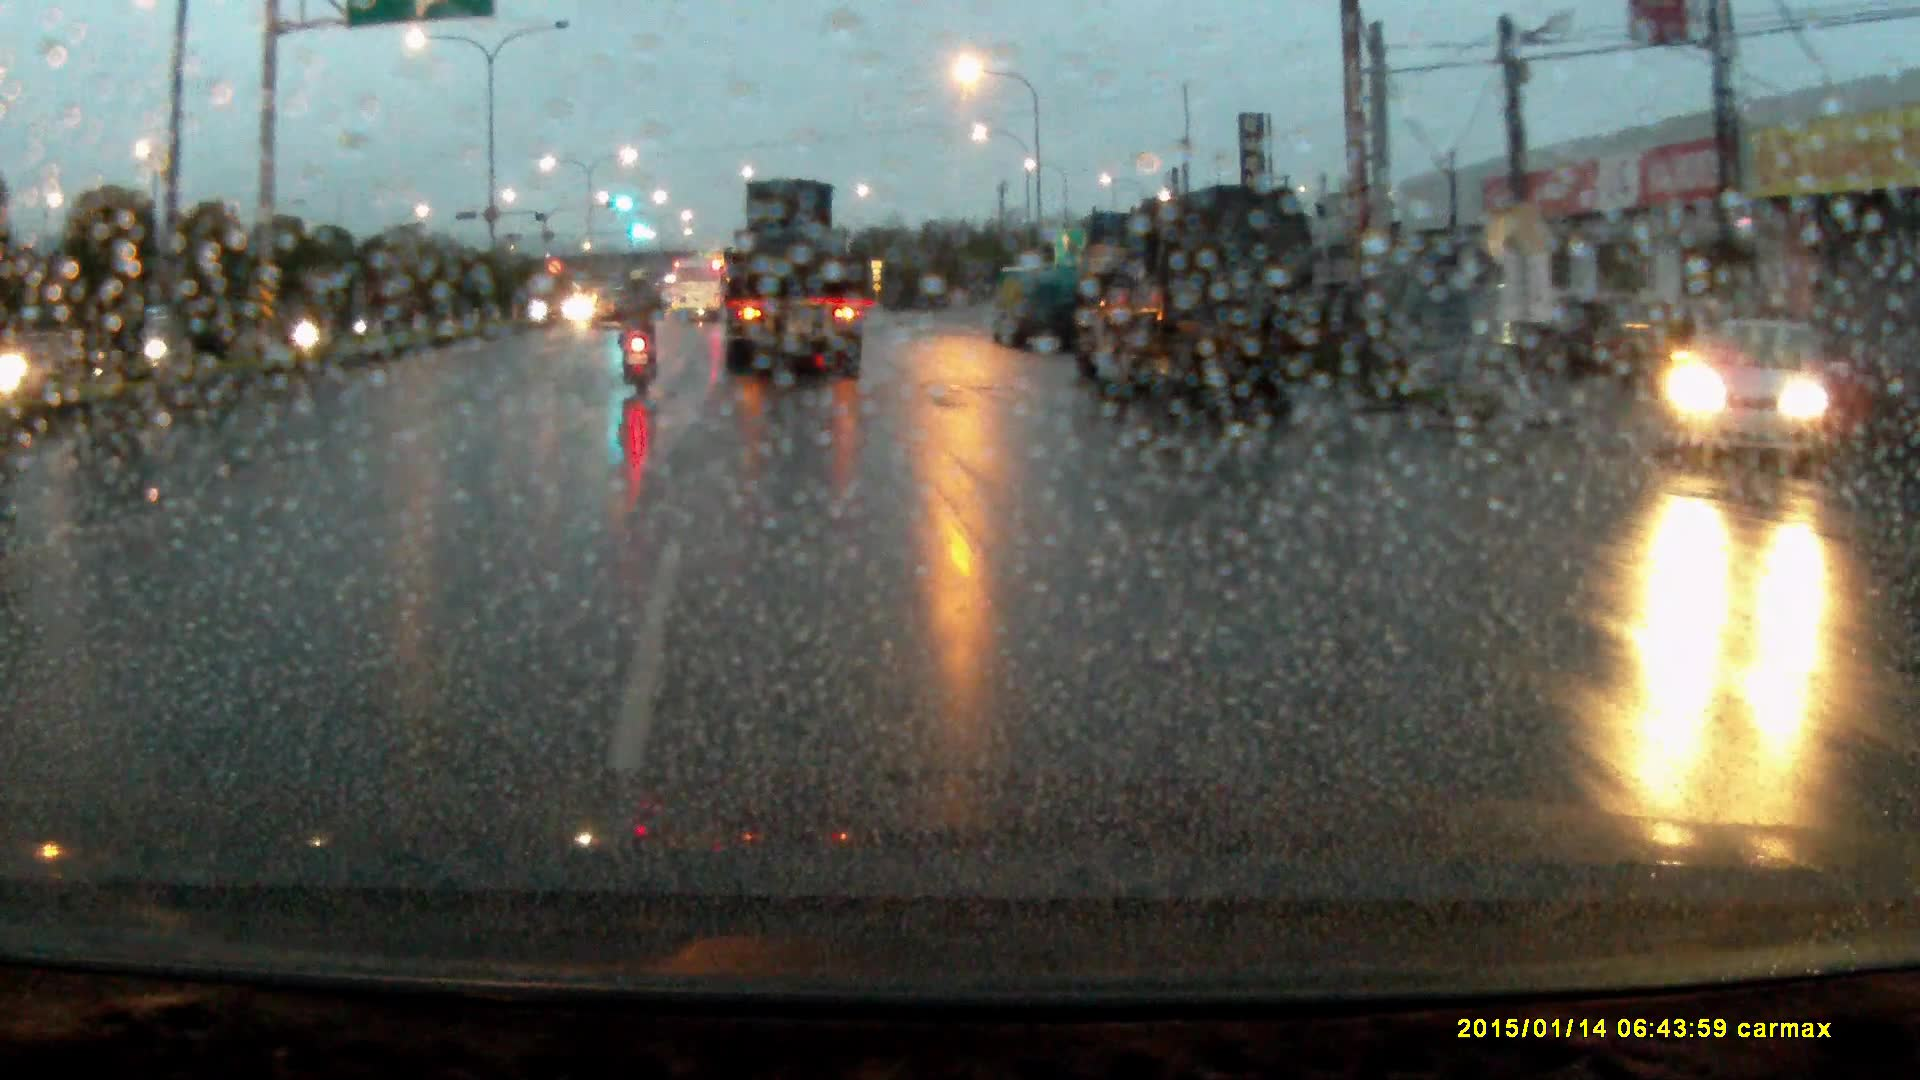rider: (618, 269, 673, 400)
vehicle: (1073, 187, 1327, 423), (1667, 310, 1860, 463), (729, 177, 863, 372), (992, 264, 1087, 348), (672, 258, 724, 322), (592, 285, 643, 331)
